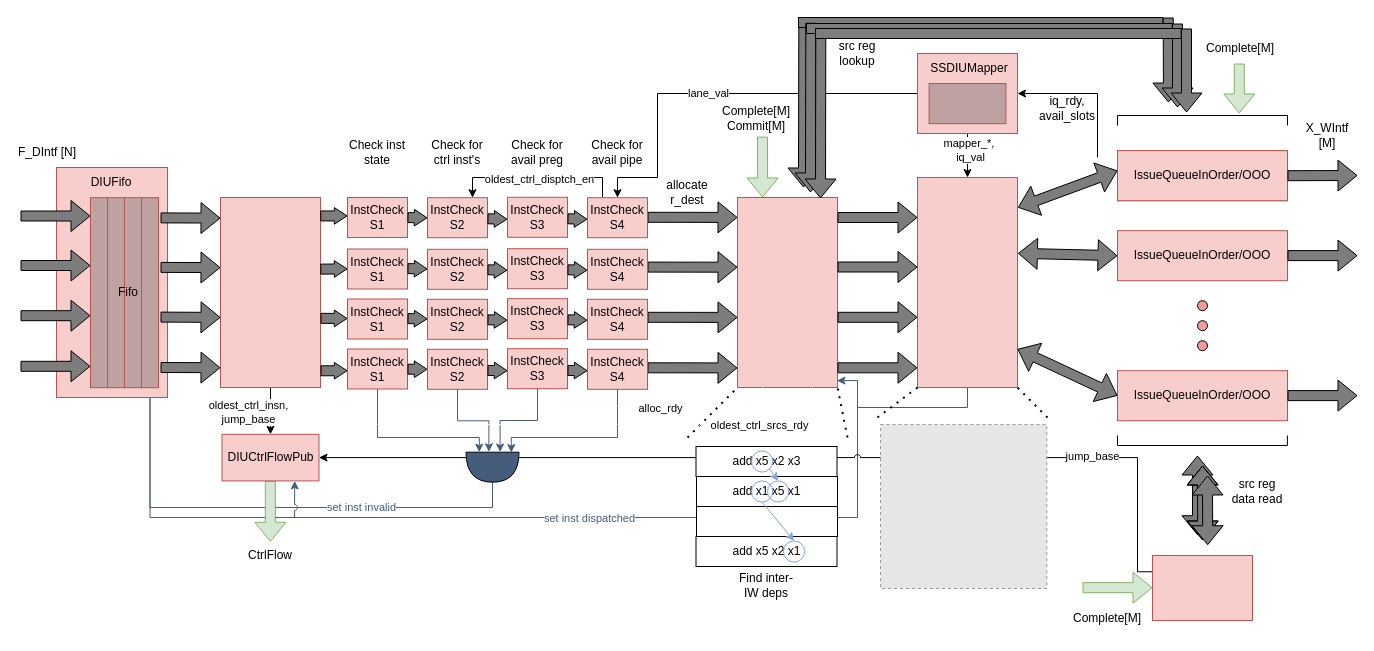
Image size: 1374x651. Some labels were removed from this diagram. Grey dashed boxes stand in for pictures. The centre of each missing label's shape, as x and y in pixels:
"add x6 x2 x3" goes at (767,521).
"InstDecoder" goes at (270,292).
"ISLIPCore" goes at (967,103).
"SSDIURouter" goes at (967,282).
"SSRegFileL2" goes at (1202,587).
"SSRename TableL3" goes at (787,292).
